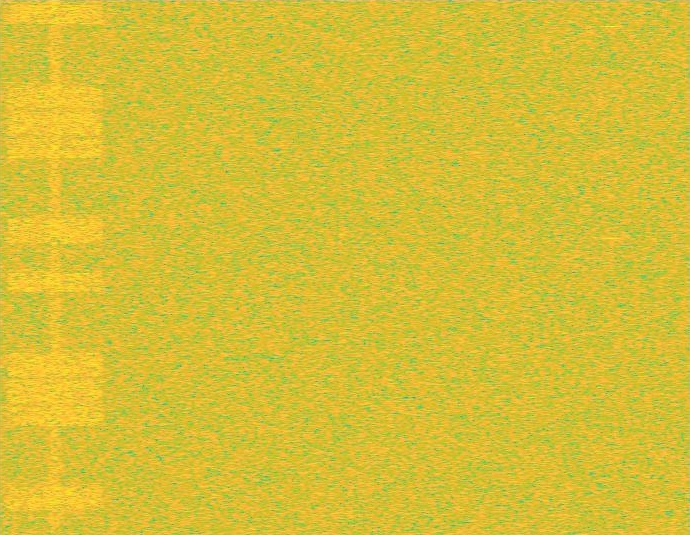DSSS: (48, 0, 62, 534)
LTE: (3, 0, 107, 534)
Radar: (605, 0, 618, 534)
